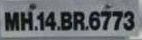character: (3, 10, 19, 31), (71, 10, 85, 31), (20, 10, 33, 31), (59, 10, 72, 30), (88, 10, 101, 30), (122, 10, 135, 30), (99, 9, 111, 30), (44, 11, 56, 31), (111, 9, 123, 29), (36, 10, 45, 31)
